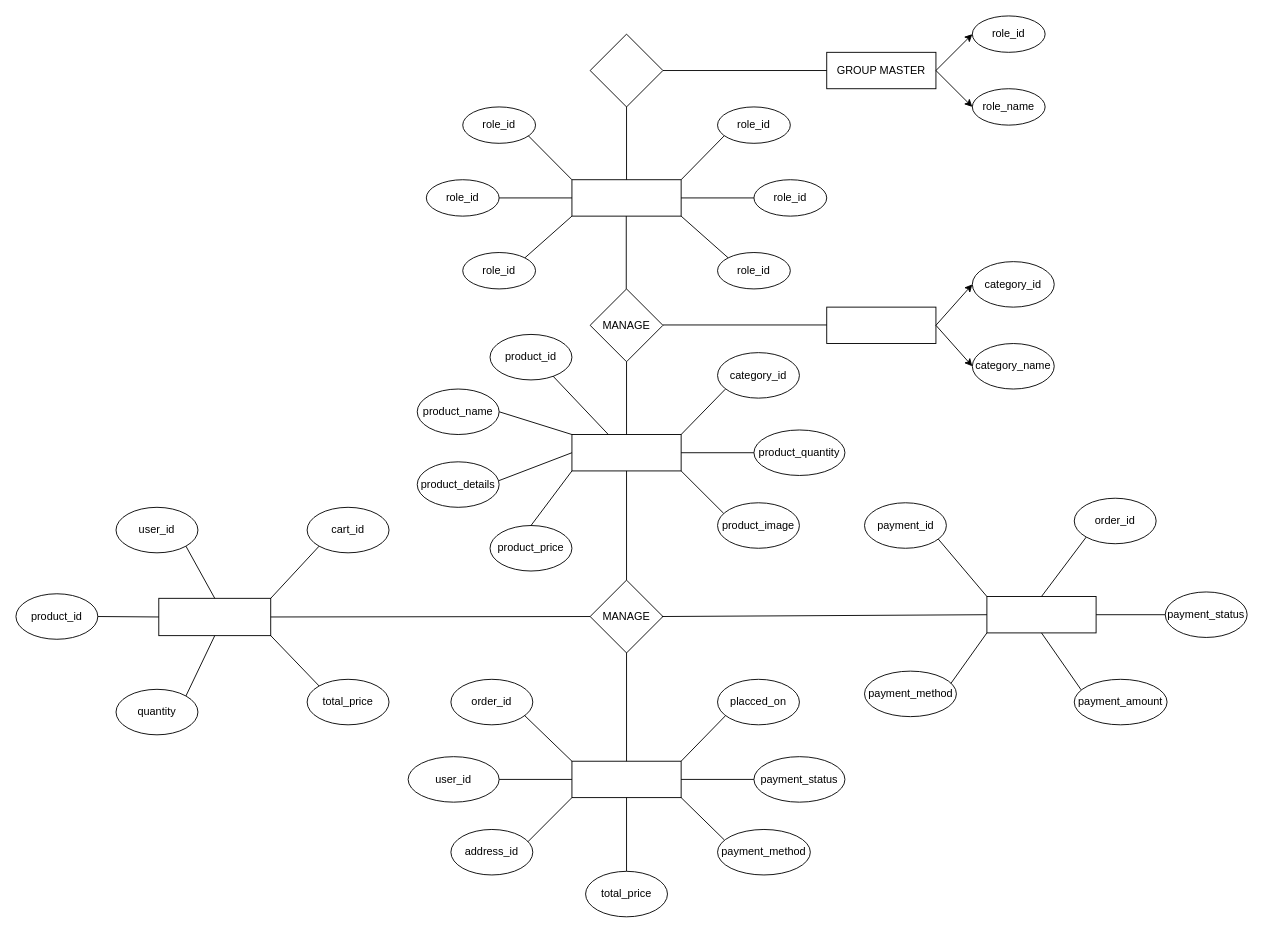
Image size: 1263x933. Some labels were removed from this diagram. Here are the shapes that lost their labels. From the top down, the centre of each, then its label:
(626,70): ROLE
(626,197): USER
(881,325): CATEGORY
(626,452): PRODUCT
(214,616): CART
(1041,614): PAYMENT
(626,779): ORDER
